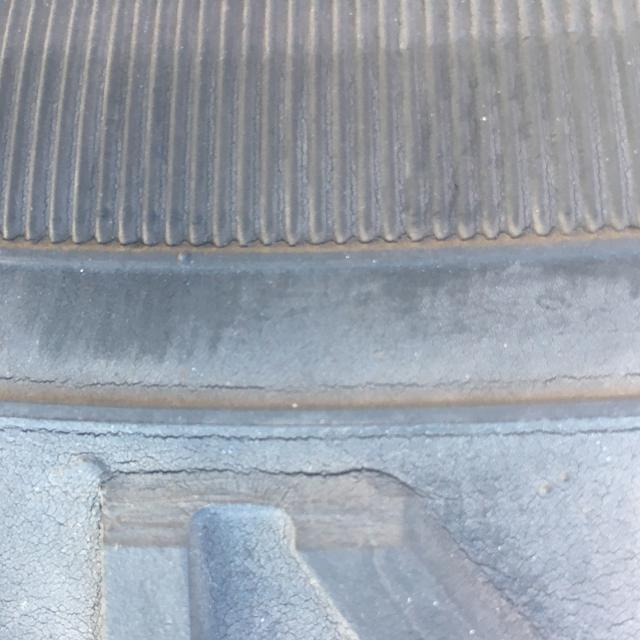Cracks: (0, 360, 640, 640)
